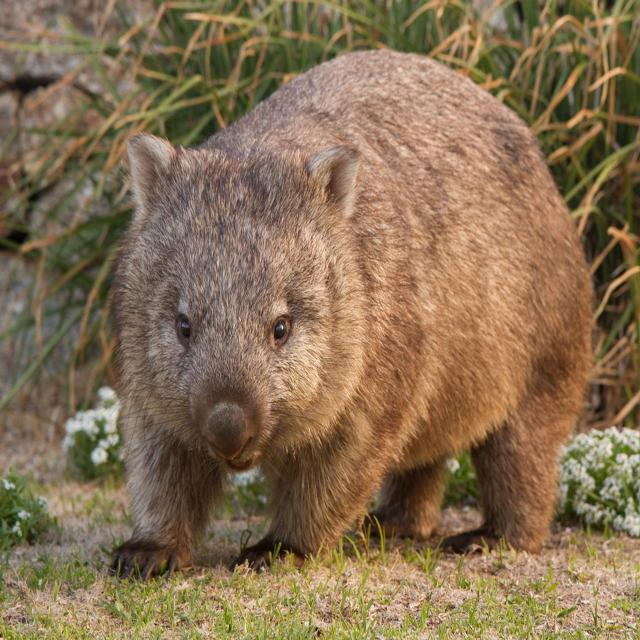Wombat: (111, 38, 594, 580)
